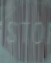Stop: (5, 3, 48, 50)
